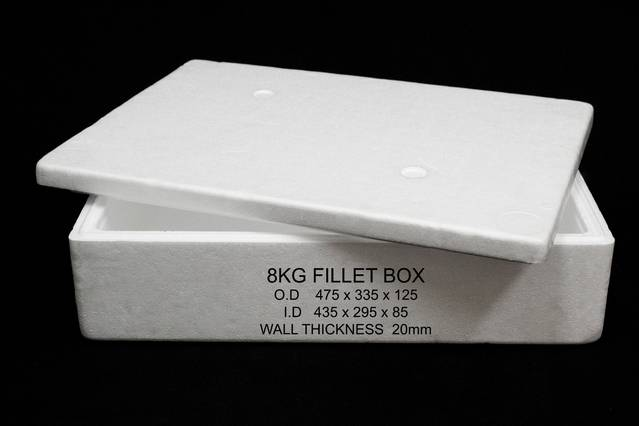泡沫箱: (36, 60, 614, 344)
